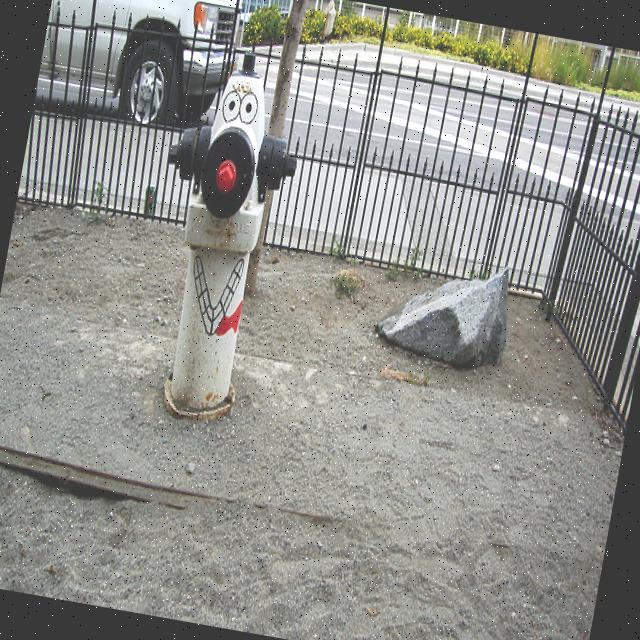fire_hydrant: (124, 41, 312, 432)
